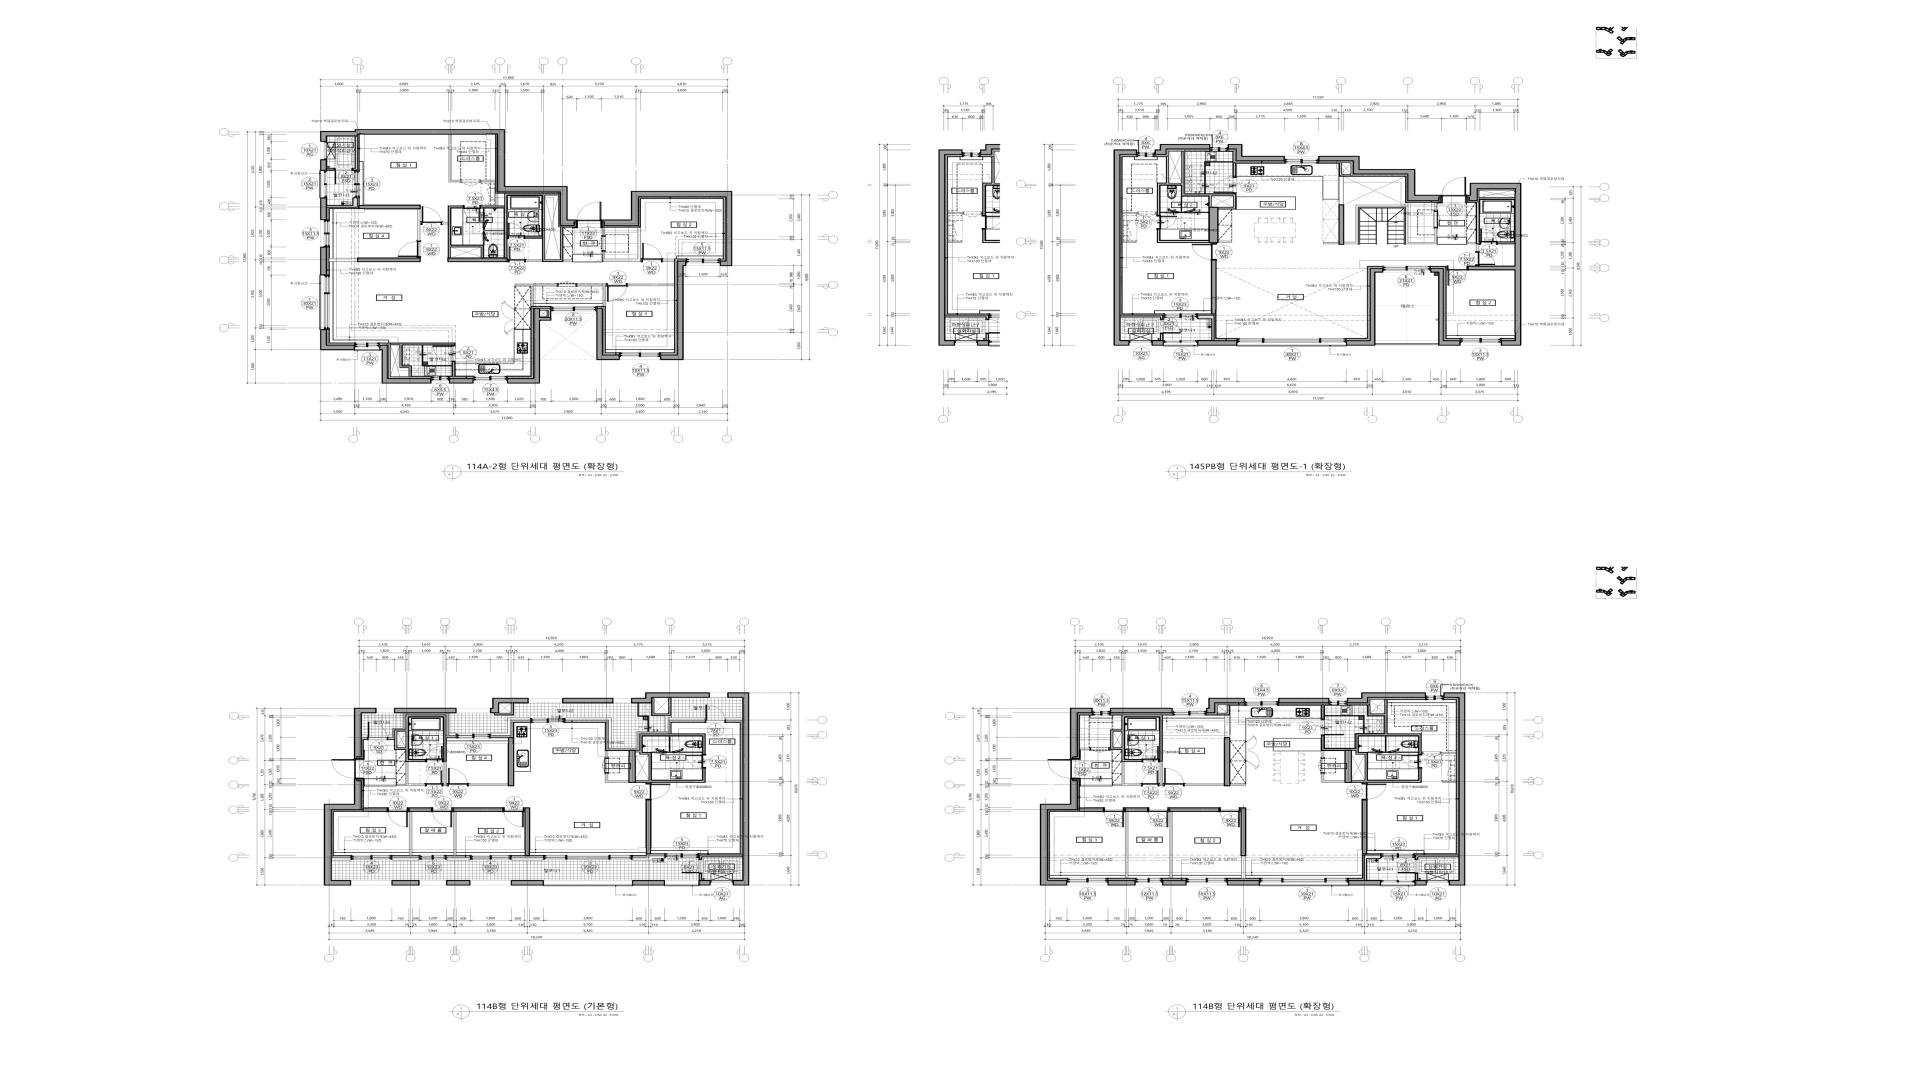door: (331, 759, 365, 779), (576, 202, 602, 228), (1048, 759, 1081, 779), (1442, 177, 1467, 203), (1147, 807, 1169, 828), (431, 807, 453, 828), (1192, 243, 1217, 261), (645, 783, 671, 800), (1103, 807, 1125, 827), (1219, 807, 1241, 827), (641, 243, 663, 263), (387, 807, 409, 827), (1362, 783, 1387, 800), (1447, 266, 1468, 286), (503, 807, 524, 827), (1163, 768, 1185, 787), (420, 206, 442, 225), (606, 283, 627, 302), (447, 768, 468, 787), (1321, 719, 1344, 736), (398, 241, 421, 258), (432, 346, 456, 362), (1213, 178, 1237, 194), (705, 705, 726, 723), (367, 722, 388, 740), (1402, 754, 1423, 769), (1398, 859, 1419, 874), (681, 859, 702, 874), (463, 205, 481, 222), (1480, 228, 1498, 245), (425, 771, 444, 787), (686, 754, 706, 769), (1156, 215, 1177, 229), (1160, 320, 1181, 334), (1142, 746, 1159, 763), (426, 746, 443, 763), (1142, 771, 1160, 787), (508, 247, 526, 263), (334, 168, 352, 184), (1475, 252, 1495, 266), (508, 223, 525, 239), (1090, 747, 1110, 753), (461, 180, 481, 186), (557, 281, 577, 287), (1138, 212, 1156, 218), (1318, 758, 1325, 773), (602, 758, 609, 773), (1423, 752, 1441, 757)
wall: (320, 129, 576, 226), (602, 191, 732, 266), (1467, 183, 1522, 346), (1321, 699, 1422, 783), (481, 193, 572, 262), (1318, 156, 1442, 201), (1157, 151, 1237, 215), (1114, 149, 1137, 346), (1444, 692, 1466, 886), (727, 692, 749, 886), (1040, 779, 1078, 886), (324, 779, 362, 886), (1344, 203, 1437, 244), (1110, 715, 1163, 786), (394, 715, 447, 786), (636, 734, 706, 783), (507, 308, 551, 384), (1346, 268, 1384, 346), (660, 261, 686, 360), (1430, 268, 1461, 346), (390, 343, 456, 377), (442, 206, 484, 257), (379, 345, 432, 384), (651, 698, 705, 732), (565, 718, 612, 749), (602, 228, 641, 262), (596, 308, 620, 360), (1070, 708, 1093, 759), (354, 708, 376, 759), (1228, 144, 1285, 161), (515, 284, 557, 306), (1347, 692, 1426, 703), (631, 692, 710, 703), (320, 329, 355, 350), (1157, 229, 1208, 243), (491, 718, 530, 736), (1467, 202, 1480, 252), (577, 284, 606, 306), (448, 135, 461, 182), (1155, 144, 1210, 155), (1206, 698, 1245, 713), (490, 698, 529, 713), (1197, 315, 1215, 340), (1364, 855, 1381, 880), (1217, 705, 1230, 737), (1208, 207, 1219, 243), (1362, 801, 1368, 854), (1211, 261, 1217, 314), (1110, 708, 1173, 713), (394, 708, 456, 713), (327, 198, 357, 208), (1224, 737, 1230, 786), (508, 737, 514, 786), (524, 807, 530, 856), (646, 801, 651, 854), (1278, 698, 1330, 703), (494, 703, 514, 716), (357, 258, 421, 262), (628, 751, 636, 783), (562, 698, 613, 703), (1169, 807, 1219, 812), (453, 807, 503, 812), (359, 205, 421, 209), (1197, 340, 1238, 346), (1241, 807, 1246, 856), (447, 258, 508, 262), (1321, 773, 1345, 783), (605, 773, 628, 783), (1345, 751, 1352, 783), (1339, 204, 1344, 245), (320, 247, 327, 276), (1125, 812, 1128, 878), (1348, 880, 1381, 886), (1227, 880, 1260, 886), (632, 880, 665, 886), (511, 880, 544, 886), (1415, 855, 1459, 859), (699, 855, 742, 859), (353, 137, 358, 171), (1121, 315, 1163, 319), (1108, 880, 1136, 886), (391, 880, 419, 886), (632, 856, 664, 861), (320, 198, 327, 220), (1162, 880, 1187, 886), (449, 378, 473, 384), (446, 880, 470, 886), (1339, 177, 1344, 204), (453, 812, 456, 856), (409, 812, 412, 856), (1170, 812, 1172, 878), (1079, 807, 1103, 812), (363, 807, 387, 812), (1241, 856, 1246, 879), (329, 258, 357, 262), (1125, 807, 1147, 812), (409, 807, 431, 812), (1479, 197, 1515, 200), (540, 308, 551, 317), (511, 858, 543, 861), (417, 209, 420, 241), (627, 284, 674, 286), (320, 159, 327, 171), (392, 858, 419, 861), (468, 784, 508, 786), (1185, 784, 1224, 786), (698, 880, 711, 886), (1152, 340, 1164, 346), (1415, 880, 1427, 886), (447, 858, 470, 861), (452, 362, 456, 377), (1233, 163, 1237, 178), (332, 858, 351, 861), (1321, 705, 1325, 719), (1498, 241, 1515, 244), (495, 194, 498, 206), (663, 259, 674, 262), (726, 718, 742, 720), (1230, 784, 1246, 786), (514, 784, 530, 786), (1441, 752, 1456, 754), (1324, 242, 1339, 244), (1123, 212, 1138, 214), (1442, 781, 1456, 783), (1122, 241, 1136, 243), (481, 180, 495, 182), (1219, 241, 1232, 243), (1160, 334, 1164, 340), (602, 228, 605, 236), (605, 751, 608, 758), (449, 733, 456, 736), (327, 168, 334, 171), (1080, 748, 1090, 750), (699, 874, 702, 880), (1415, 874, 1418, 880), (1435, 203, 1437, 211), (388, 735, 393, 737), (362, 735, 367, 737)
window: (1238, 338, 1346, 346), (1260, 878, 1348, 886), (319, 276, 330, 329), (543, 855, 632, 860), (544, 881, 632, 886), (620, 352, 660, 360), (551, 306, 596, 313), (1187, 878, 1227, 885), (1067, 878, 1107, 885), (1461, 338, 1501, 345), (1384, 266, 1430, 272), (1285, 156, 1319, 164), (686, 258, 720, 266), (1173, 708, 1206, 716), (1245, 698, 1278, 706), (321, 220, 330, 247), (473, 376, 507, 383), (319, 171, 327, 198), (352, 171, 360, 198), (355, 342, 379, 351), (470, 855, 511, 860), (351, 855, 392, 860), (1381, 853, 1415, 859), (1381, 880, 1415, 886), (1164, 340, 1197, 346), (1136, 878, 1162, 885), (530, 718, 565, 723), (456, 734, 491, 739), (664, 853, 699, 858), (457, 708, 490, 713), (529, 698, 562, 703), (665, 881, 698, 886), (1164, 313, 1197, 318), (470, 881, 511, 885), (351, 881, 391, 885), (419, 855, 447, 860), (1330, 698, 1347, 706), (1093, 708, 1110, 716), (1426, 693, 1444, 700), (1210, 145, 1228, 152), (431, 376, 449, 383), (1137, 150, 1155, 157), (1427, 880, 1449, 885), (711, 880, 733, 885), (1130, 340, 1151, 345), (420, 881, 446, 885), (321, 142, 327, 159), (613, 698, 631, 703), (710, 693, 727, 698), (377, 708, 394, 713)
